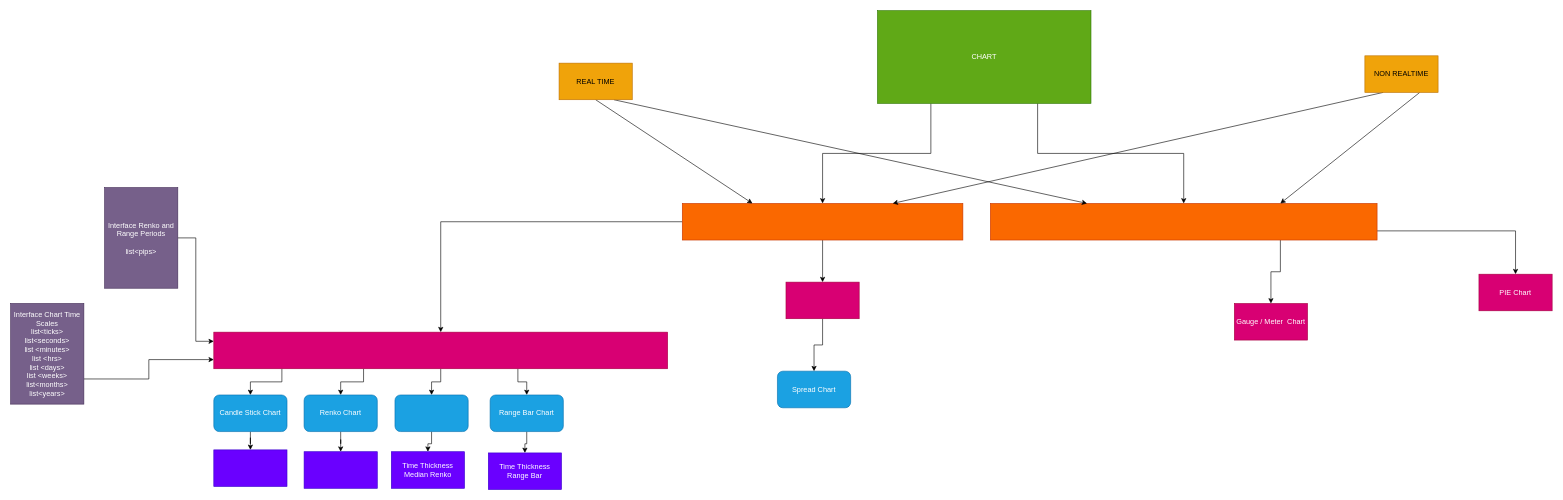
Image size: 1563x500. Some labels were removed from this diagram. The centre of each missing label's shape, as x and y in pixels:
"LINE CHART" goes at (822,300).
"Median Renko" goes at (431,413).
"Non_XY_Chart" goes at (1183,221).
"Stock Chart" goes at (440,350).
"Tick Chart" goes at (250,467).
"Time Thickness Renko" goes at (340,469).
"XY Chart" goes at (822,221).
